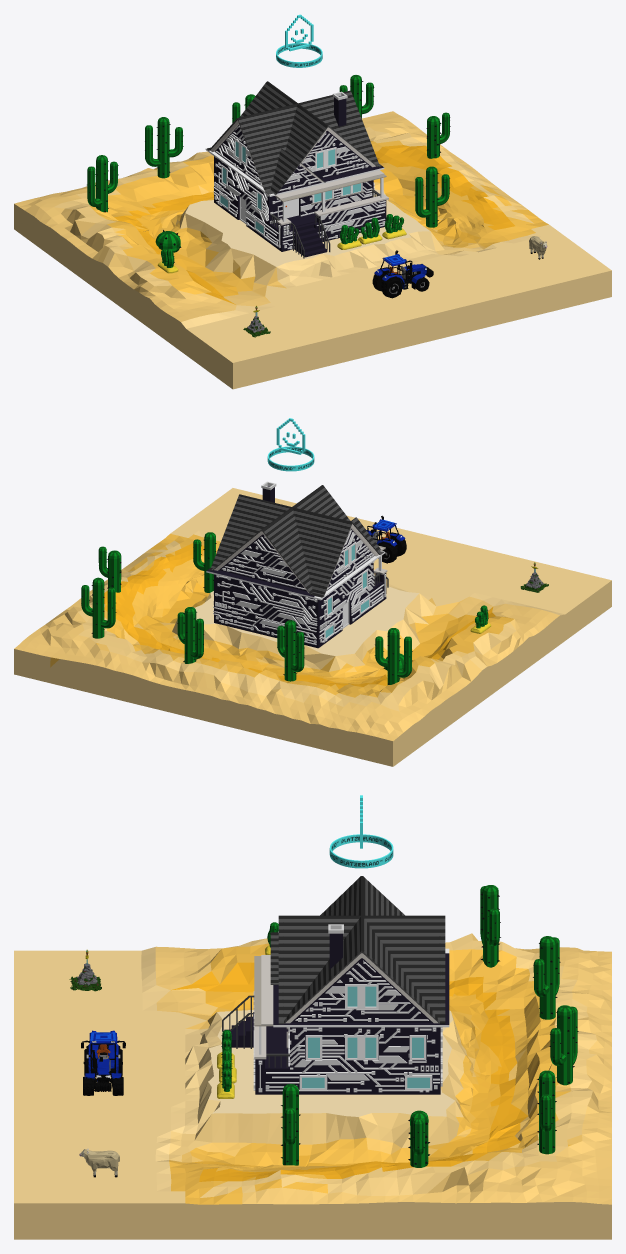
3 renders of one model, top to bottom at view 1: azimuth 30°, elevation 25°; view 2: azimuth 150°, elevation 25°; view 3: azimuth 270°, elevation 25°, orthographic. The views are drawn at different scales.
Parts seen in each view (by area): view 1: Cube.001, Cube.918, VEHICLES_TRACTOR, Cylinder.044, Cylinder.037, Cylinder.045, TYPE_PREMIUM, Cylinder.038, Cylinder.042; view 2: Cube.001, Cube.918, Cylinder.042, Cylinder.045, Cylinder.044, Cylinder.043, VEHICLES_TRACTOR, TYPE_PREMIUM, Cylinder.037, Cylinder.038; view 3: Cube.001, Cube.918, VEHICLES_TRACTOR, Cylinder.044, Cylinder.043, Cylinder.045, Cylinder.042, Cylinder.037, TYPE_PREMIUM, Cylinder.038, ANIMAL_OVEJA, OBJRANDOM_SWORD_IN_THE_STONE.
Part boxes in pixels (x1=…): Cube.001: x1=14, y1=111, x2=611, y2=389; Cube.918: x1=205, y1=81, x2=388, y2=258; VEHICLES_TRACTOR: x1=372, y1=250, x2=433, y2=298; Cylinder.044: x1=145, y1=117, x2=183, y2=178; Cylinder.037: x1=415, y1=166, x2=449, y2=227; Cylinder.045: x1=87, y1=155, x2=118, y2=212; TYPE_PREMIUM: x1=276, y1=14, x2=322, y2=67; Cylinder.038: x1=426, y1=112, x2=450, y2=158; Cylinder.042: x1=339, y1=75, x2=374, y2=118; Cube.001: x1=14, y1=488, x2=611, y2=766; Cube.918: x1=206, y1=481, x2=388, y2=648; Cylinder.042: x1=81, y1=577, x2=116, y2=638; Cylinder.045: x1=374, y1=628, x2=412, y2=684; Cylinder.044: x1=277, y1=620, x2=304, y2=681; Cylinder.043: x1=177, y1=607, x2=203, y2=663; VEHICLES_TRACTOR: x1=366, y1=515, x2=406, y2=563; TYPE_PREMIUM: x1=267, y1=418, x2=314, y2=471; Cylinder.037: x1=193, y1=532, x2=220, y2=592; Cylinder.038: x1=98, y1=546, x2=121, y2=592; Cube.001: x1=14, y1=933, x2=611, y2=1239; Cube.918: x1=222, y1=876, x2=449, y2=1094; VEHICLES_TRACTOR: x1=81, y1=1030, x2=125, y2=1095; Cylinder.044: x1=533, y1=936, x2=560, y2=1019; Cylinder.043: x1=549, y1=1005, x2=578, y2=1085; Cylinder.045: x1=480, y1=885, x2=500, y2=967; Cylinder.042: x1=537, y1=1070, x2=556, y2=1154; Cylinder.037: x1=281, y1=1084, x2=300, y2=1165; TYPE_PREMIUM: x1=329, y1=795, x2=393, y2=868; Cylinder.038: x1=408, y1=1110, x2=429, y2=1167; ANIMAL_OVEJA: x1=79, y1=1148, x2=119, y2=1177; OBJRANDOM_SWORD_IN_THE_STONE: x1=69, y1=949, x2=101, y2=991.
Bounding box in the file's own units: 4002 × 2460 × 4001.
40 materials, 4 textured.
